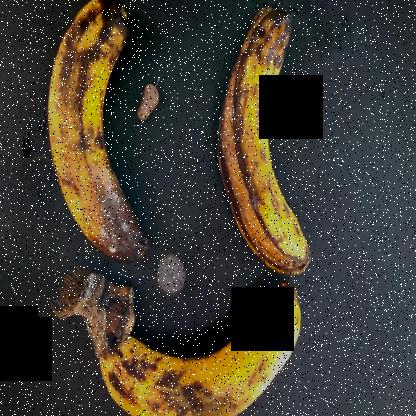overripe: (80, 287, 298, 416)
rotten: (26, 4, 176, 266), (211, 1, 323, 288)
